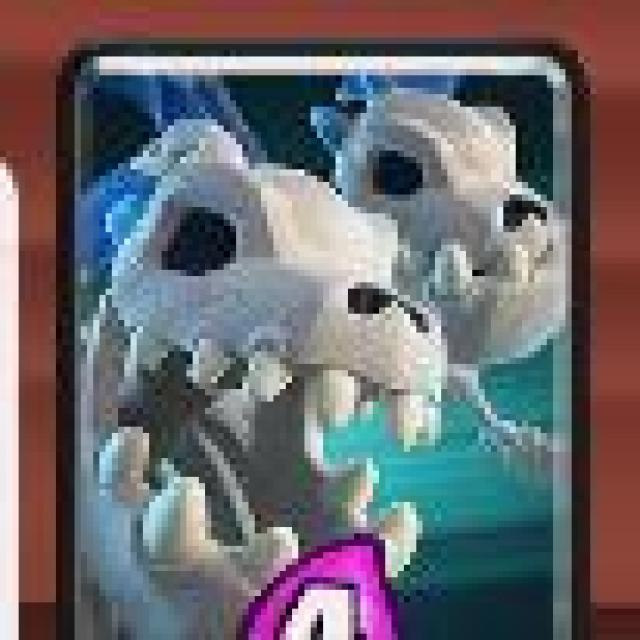Skeleton_Dragons: (59, 44, 583, 640)
